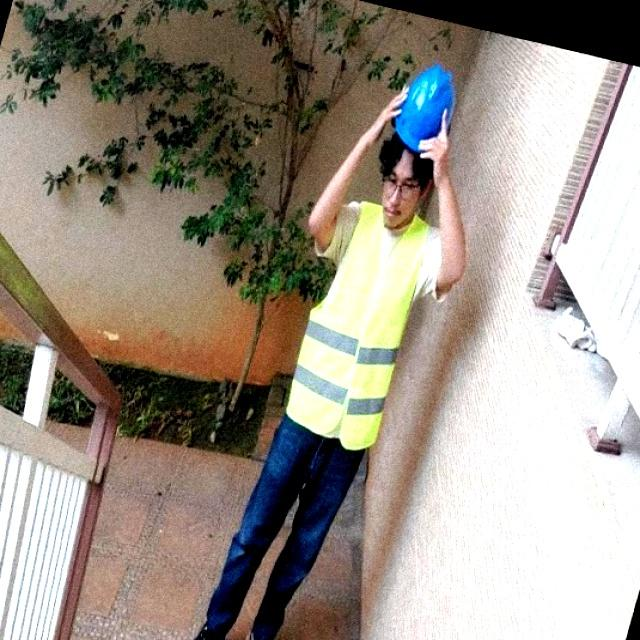Colete: (286, 202, 427, 449)
